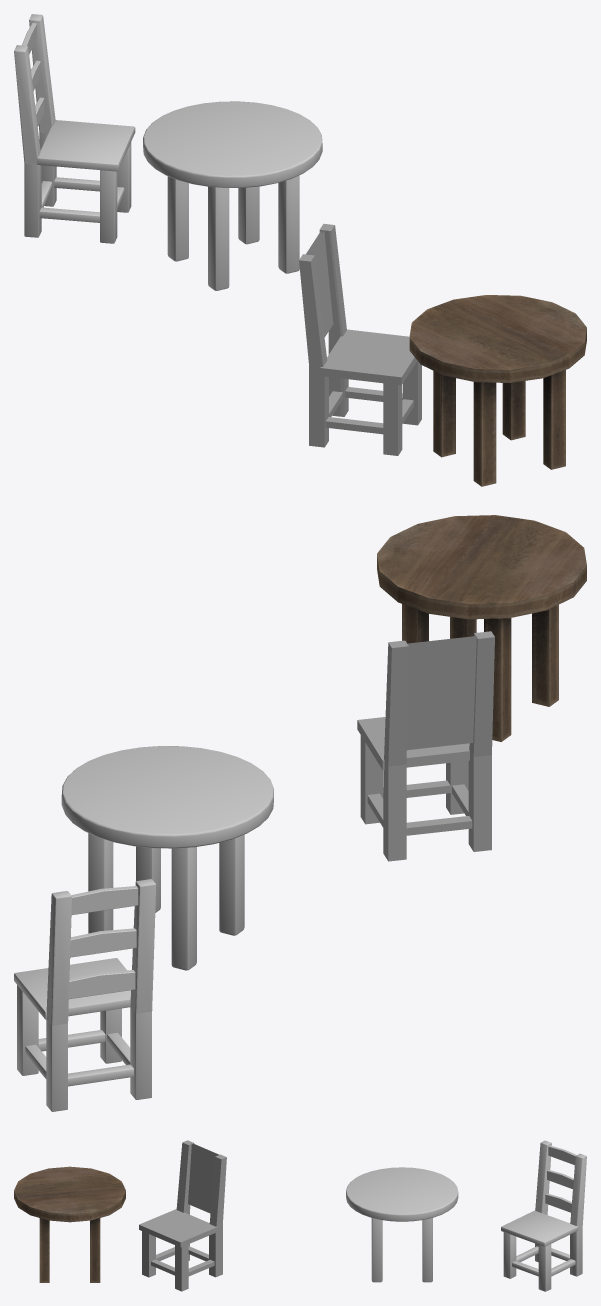
Rendered from table_chair_LP_HP.fbx.
The picture shows the model from 3 angles, top to bottom: view 1: azimuth 30°, elevation 25°; view 2: azimuth 150°, elevation 25°; view 3: azimuth 270°, elevation 25°; orthographic projection. The views are drawn at different scales.
Parts seen in each view (by area): view 1: pCylinder6, SaloonTableHP, pCube8, SaloonChairHP; view 2: SaloonTableHP, pCylinder6, pCube8, SaloonChairHP; view 3: pCube8, SaloonChairHP, SaloonTableHP, pCylinder6.
Boxes of the visible parts, bbox=[...] form: pCylinder6: bbox=[409, 295, 586, 486]; SaloonTableHP: bbox=[143, 101, 322, 290]; pCube8: bbox=[299, 223, 421, 455]; SaloonChairHP: bbox=[14, 14, 135, 243]; SaloonTableHP: bbox=[61, 746, 273, 970]; pCylinder6: bbox=[377, 515, 586, 741]; pCube8: bbox=[357, 631, 494, 861]; SaloonChairHP: bbox=[14, 879, 156, 1111]; pCube8: bbox=[139, 1140, 226, 1291]; SaloonChairHP: bbox=[501, 1140, 586, 1291]; SaloonTableHP: bbox=[346, 1167, 458, 1282]; pCylinder6: bbox=[14, 1166, 125, 1282].
Bounding box in the file's own units: 5.98 × 5.79 × 25.9.
